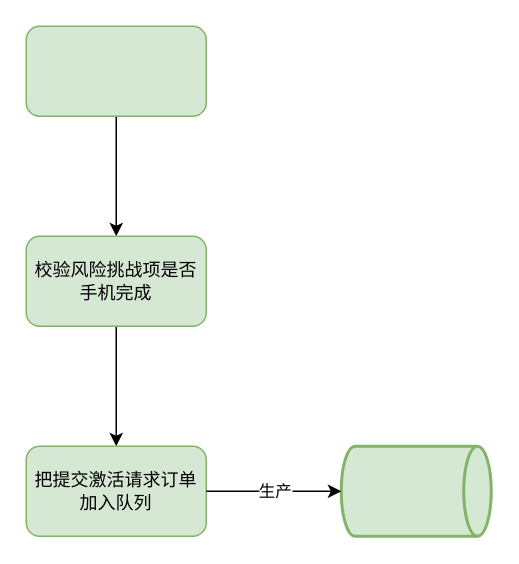
Some shapes in this 519 by 564 pixel diagram are drawn without their labels. The box of each missing label's shape, as (x1, y1, x2, y2) in pixels:
rabbitmq: (339, 444, 492, 537)
查询cash_out_apply表数据: (25, 25, 206, 116)
